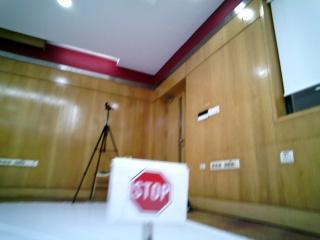stop: (114, 156, 185, 223)
